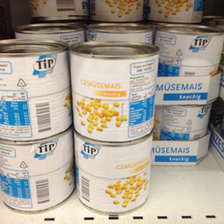corn: (68, 40, 159, 143), (1, 39, 73, 141), (72, 129, 153, 215), (1, 133, 73, 211)
